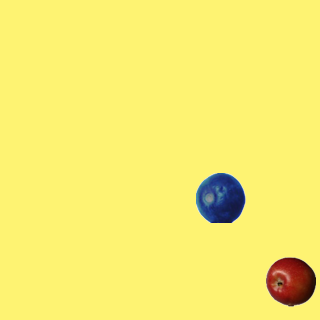Apple Braeburn: (265, 256, 315, 306)
Huckleberry: (195, 172, 245, 222)
